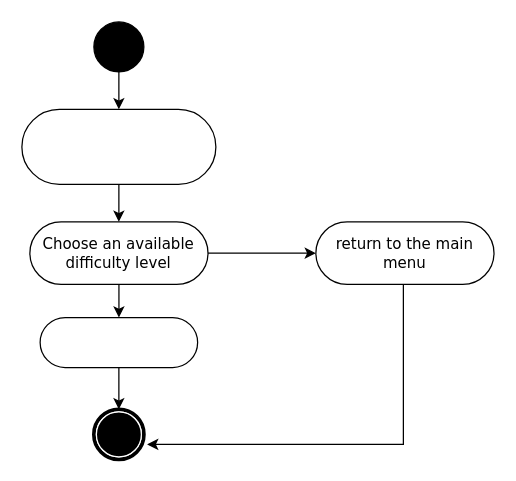
The diagram is 516 pixels wide and 481 high, and some of its shapes have lost their labels. The shapes that lost their labels are listed below. From the top down, each one's box as (x1, y1, x2, y2) in pixels, then its label:
(21, 108, 216, 184): Choose "Start a New Difficulty Level" on the main menu
(39, 316, 198, 368): Start to play a puzzle
